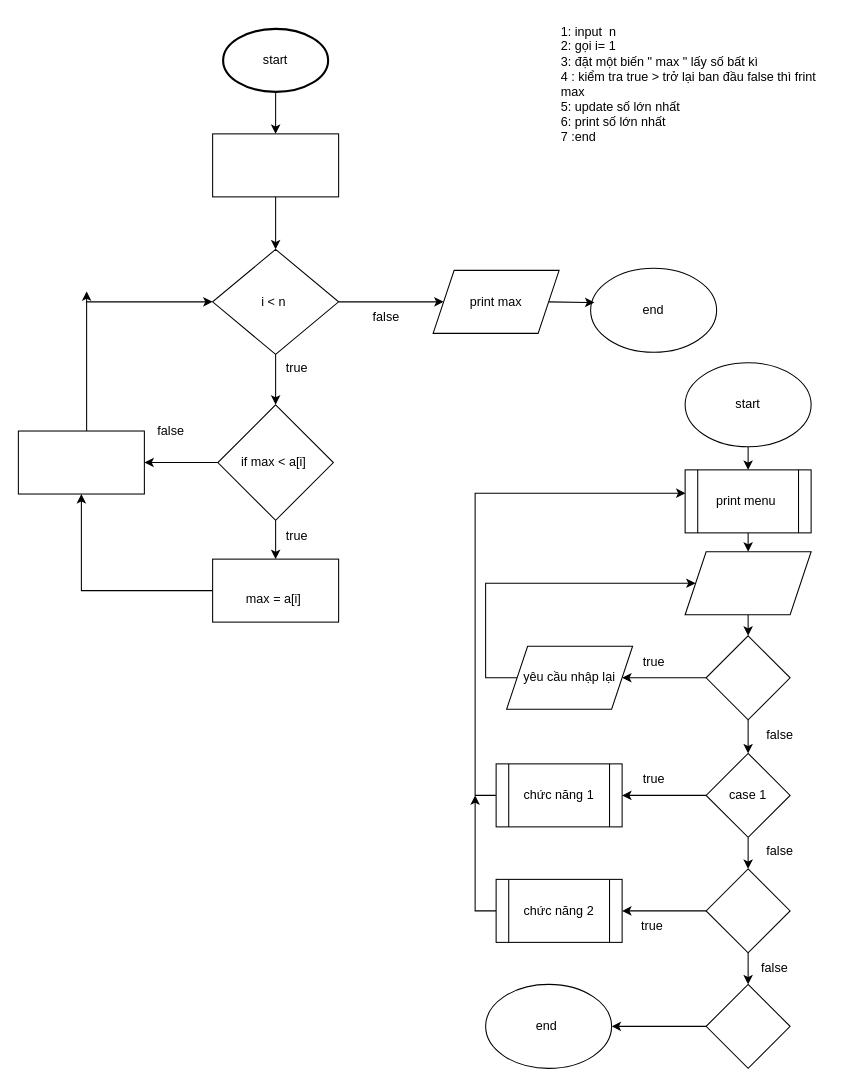
This 861x1087 diagram has some shape labels left out. Here are the shapes that lost their labels. From the top down, the box of each, then its label:
(212, 133, 339, 197): i =2 max = a[i]
(17, 430, 144, 494): i = i +1
(684, 551, 811, 615): input
(705, 635, 790, 720): if choice < 1 choice >3
(705, 868, 790, 953): case 2
(705, 983, 790, 1068): case 3
